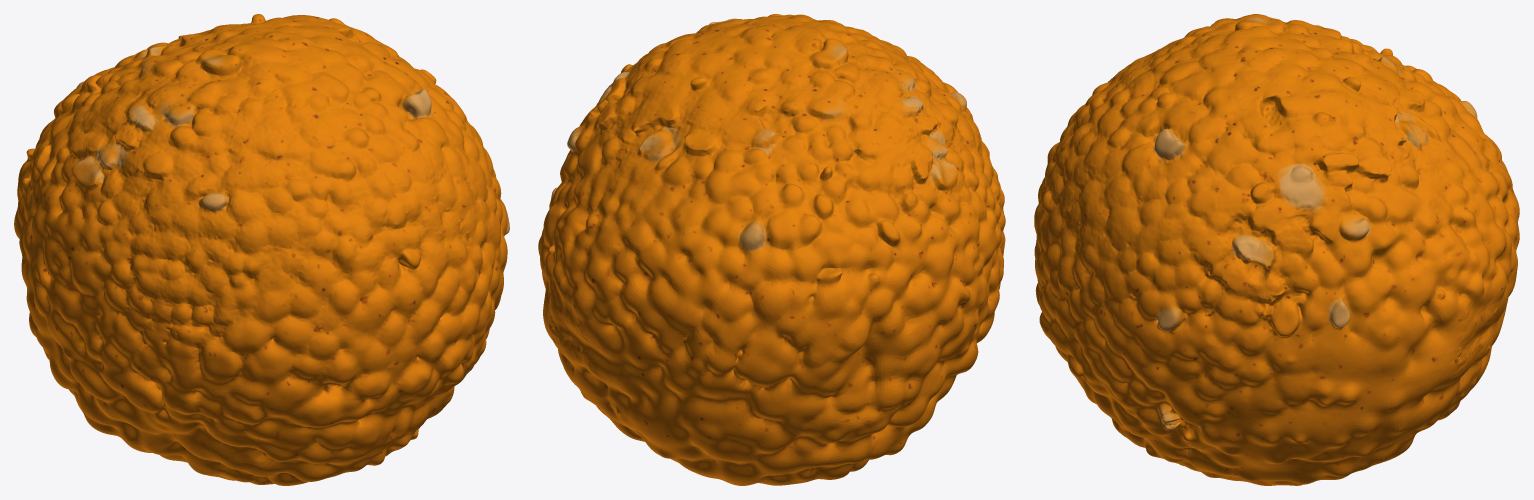
The model's file is tirupatiLadu.glb.
3 renders of one model, left to right at view 1: azimuth 30°, elevation 25°; view 2: azimuth 150°, elevation 25°; view 3: azimuth 270°, elevation 25°, orthographic. The views are drawn at different scales.
Visible parts, largest first — view 1: tripo_node_bf4fd848-60c7-4ed7-a4d5-4654001d6bd7; view 2: tripo_node_bf4fd848-60c7-4ed7-a4d5-4654001d6bd7; view 3: tripo_node_bf4fd848-60c7-4ed7-a4d5-4654001d6bd7.
Part boxes in pixels (bbox=[...]): tripo_node_bf4fd848-60c7-4ed7-a4d5-4654001d6bd7: bbox=[14, 14, 509, 485]; tripo_node_bf4fd848-60c7-4ed7-a4d5-4654001d6bd7: bbox=[538, 14, 1005, 485]; tripo_node_bf4fd848-60c7-4ed7-a4d5-4654001d6bd7: bbox=[1034, 14, 1519, 485].
Size of the model in its own units: 0.9586 by 0.964 by 1.
Materials: 1 (1 with a texture image).
